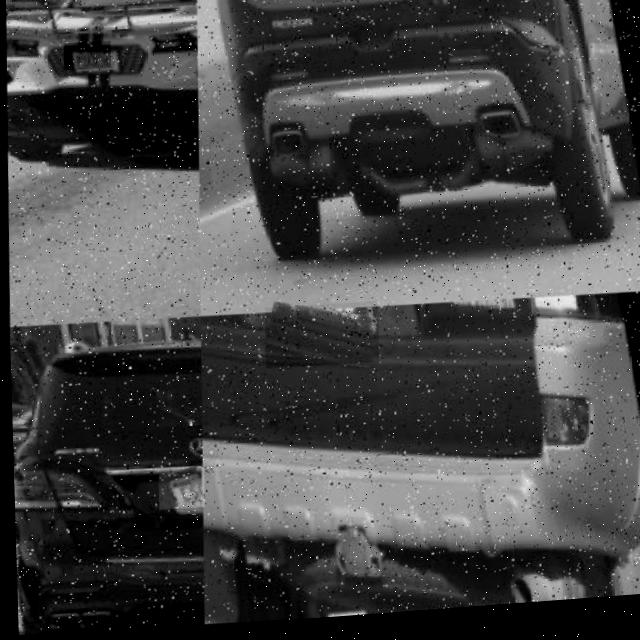LicensePlate: (262, 305, 377, 374), (156, 470, 201, 511), (64, 44, 110, 70), (316, 0, 382, 9)
